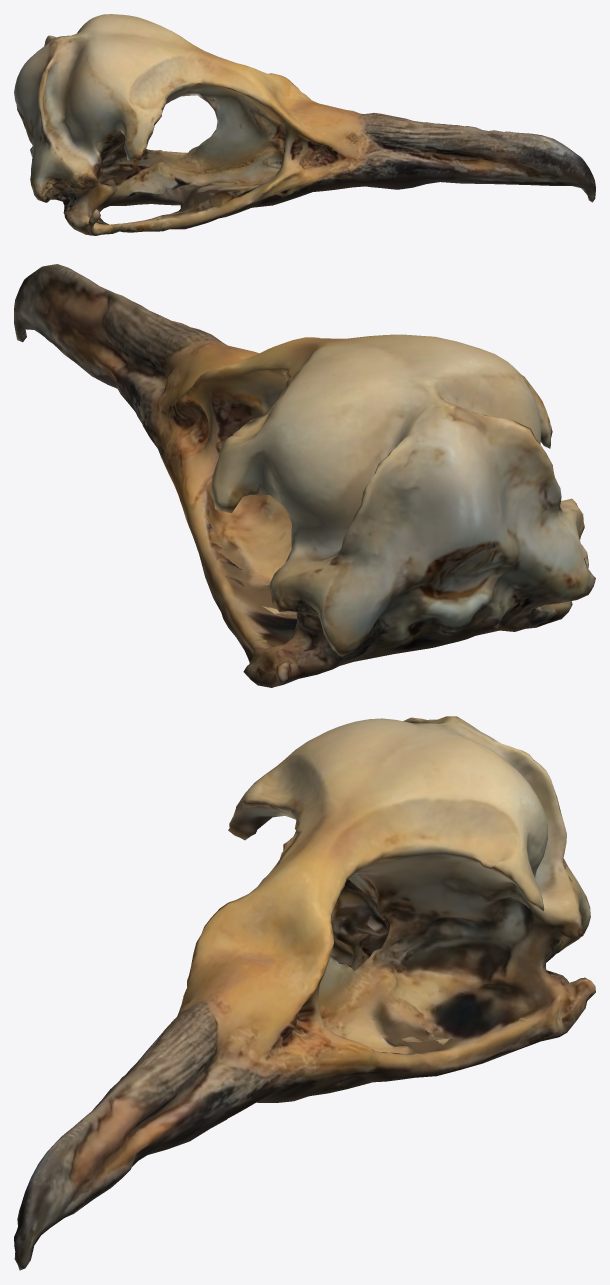
The model's file is Cráneo de pájaro.glb.
3 views of the same model, one above another, from view 1: azimuth 30°, elevation 25°; view 2: azimuth 150°, elevation 25°; view 3: azimuth 270°, elevation 25° (orthographic). The views are drawn at different scales.
Parts seen in each view (by area): view 1: 3DModel; view 2: 3DModel; view 3: 3DModel.
Part boxes in pixels (x1=…): 3DModel: x1=14, y1=14, x2=595, y2=235; 3DModel: x1=14, y1=264, x2=595, y2=687; 3DModel: x1=14, y1=716, x2=595, y2=1270.
Size of the model in its own units: 0.5123 by 0.1891 by 0.3612.
1 material, 1 textured.
